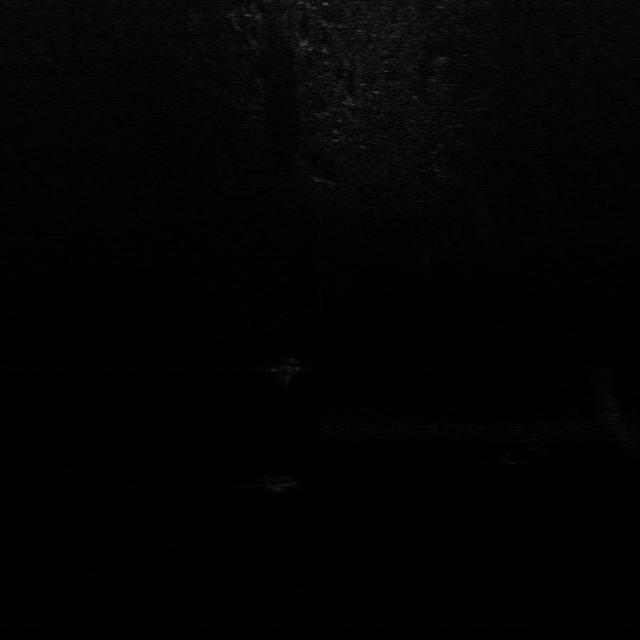cube: (260, 470, 300, 494)
square cage: (270, 354, 306, 378)
tyre: (496, 435, 556, 467)
